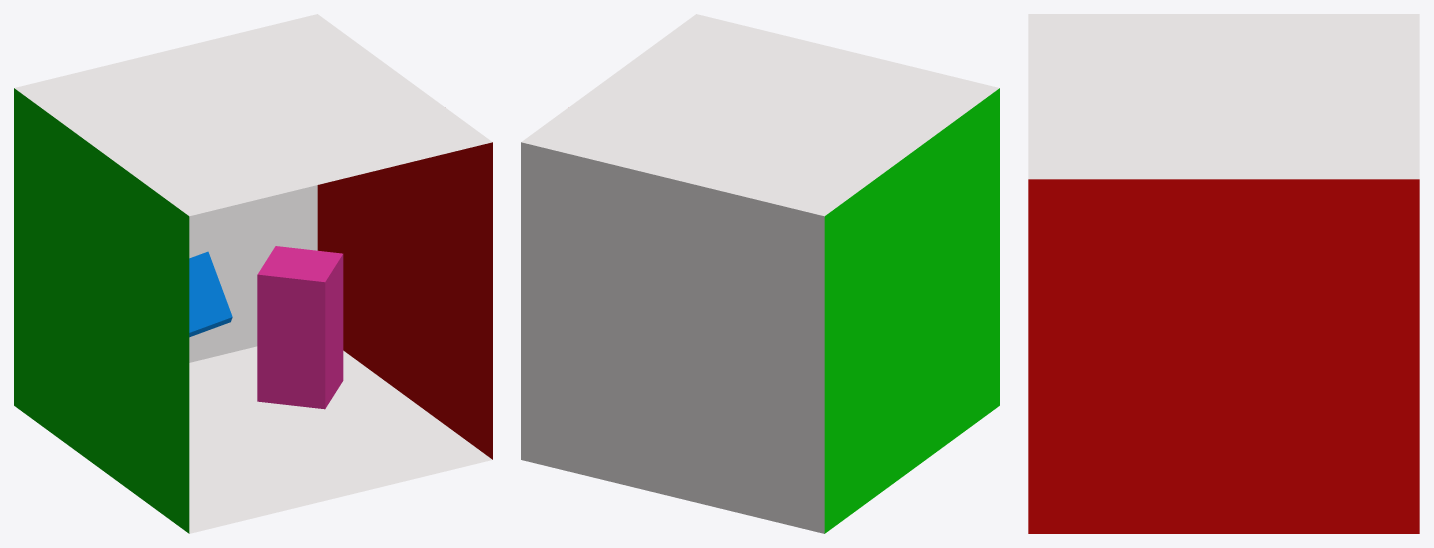
The model's file is cornell_box.gltf.
3 renders of one model, left to right at view 1: azimuth 30°, elevation 25°; view 2: azimuth 150°, elevation 25°; view 3: azimuth 270°, elevation 25°, orthographic. The views are drawn at different scales.
Parts seen in each view (by area): view 1: Plane.003, Plane.001, Plane.004, Plane, Cube.001, Plane.002, Cube; view 2: Plane.002, Plane.003, Plane.001; view 3: Plane.004, Plane.001.
Part boxes in pixels (x1=…): Plane.003: x1=14, y1=88, x2=189, y2=533; Plane.001: x1=14, y1=14, x2=492, y2=216; Plane.004: x1=317, y1=142, x2=492, y2=459; Plane: x1=189, y1=346, x2=492, y2=533; Cube.001: x1=257, y1=246, x2=343, y2=409; Plane.002: x1=189, y1=185, x2=317, y2=362; Cube: x1=189, y1=251, x2=232, y2=337; Plane.002: x1=521, y1=142, x2=824, y2=533; Plane.003: x1=824, y1=88, x2=999, y2=533; Plane.001: x1=521, y1=14, x2=999, y2=216; Plane.004: x1=1028, y1=179, x2=1419, y2=533; Plane.001: x1=1028, y1=14, x2=1419, y2=179.
Size of the model in its own units: 10 by 10 by 10.
